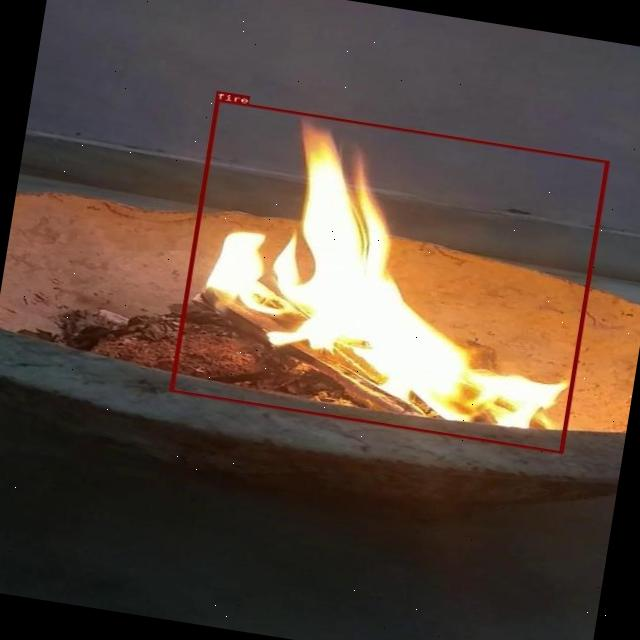fire: (169, 99, 609, 454)
